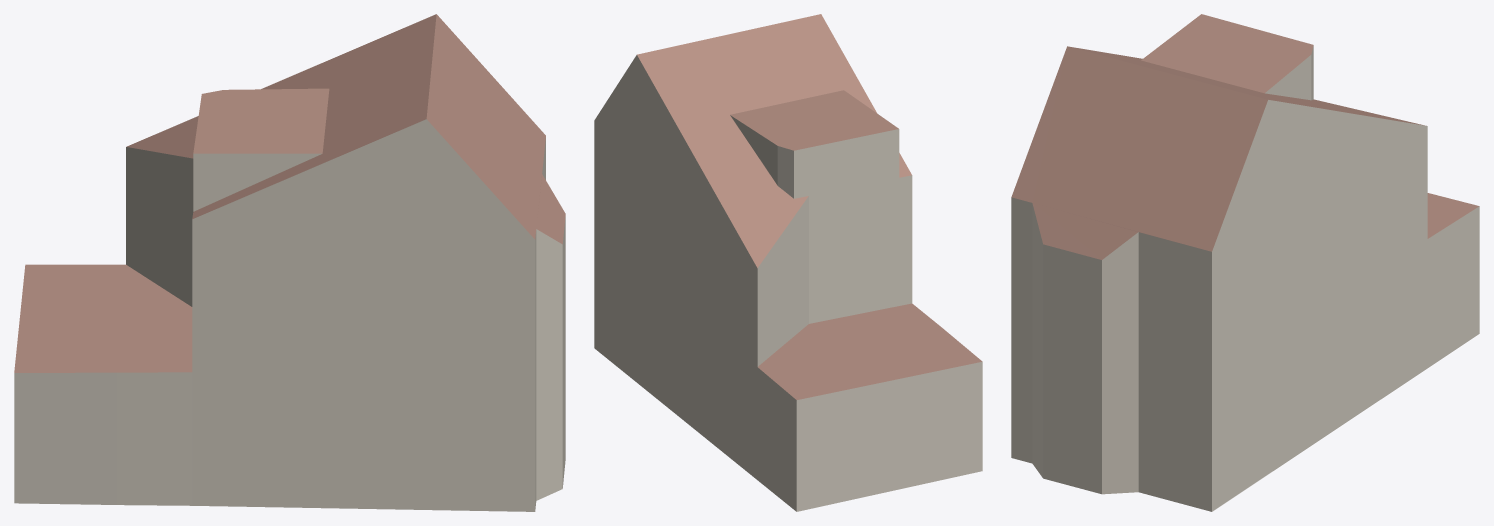
The picture shows the model from 3 angles, left to right: view 1: azimuth 30°, elevation 25°; view 2: azimuth 150°, elevation 25°; view 3: azimuth 270°, elevation 25°; orthographic projection. The views are drawn at different scales.
Bounding box in the file's own units: 13.9 × 10.45 × 11.83.
